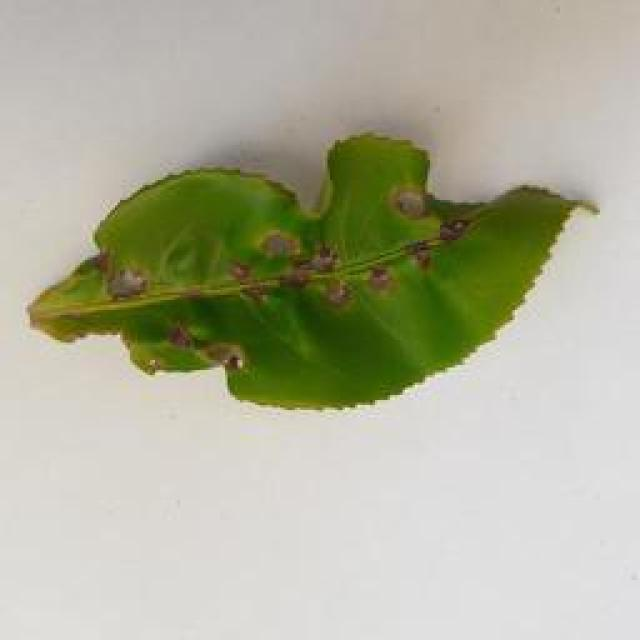Helopeltis: (21, 134, 595, 426)
